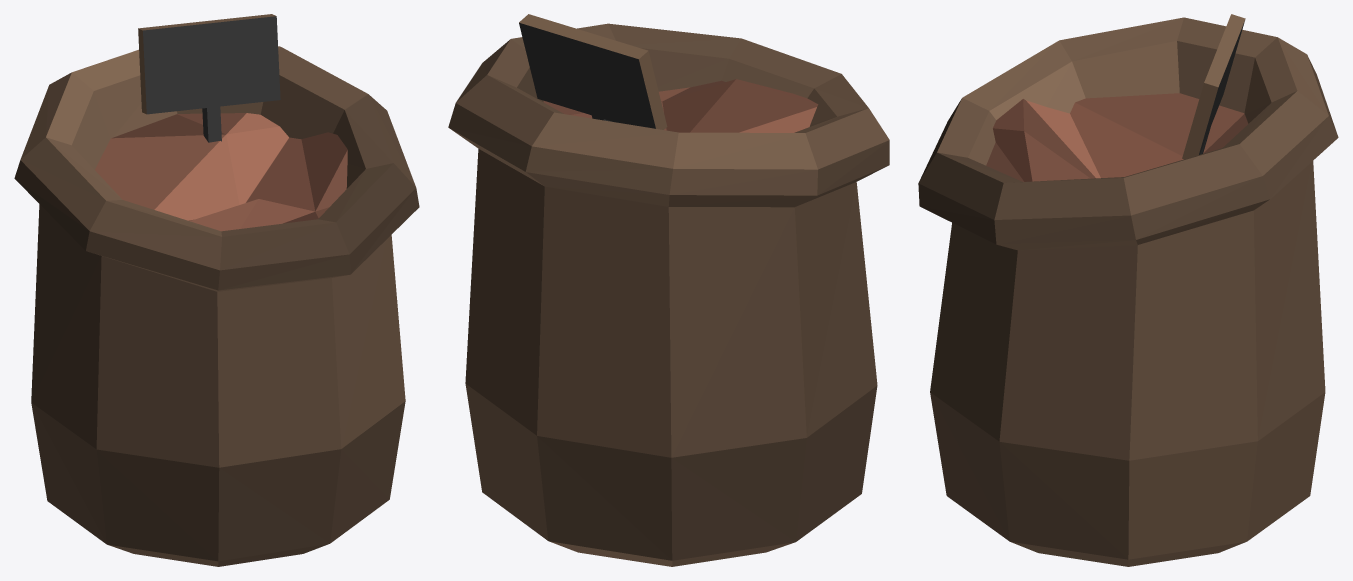
The model's file is Prop_GrainBagE.fbx.
3 renders of one model, left to right at view 1: azimuth 30°, elevation 25°; view 2: azimuth 150°, elevation 25°; view 3: azimuth 270°, elevation 25°, orthographic. The views are drawn at different scales.
Visible parts, largest first — view 1: Prop_GrainBagE; view 2: Prop_GrainBagE; view 3: Prop_GrainBagE.
Boxes of the visible parts, box(x1,y1,x2,y2) form: Prop_GrainBagE: box(14, 14, 419, 566); Prop_GrainBagE: box(448, 14, 889, 566); Prop_GrainBagE: box(918, 14, 1338, 566).
Size of the model in its own units: 55.55 by 70.1 by 55.66.
